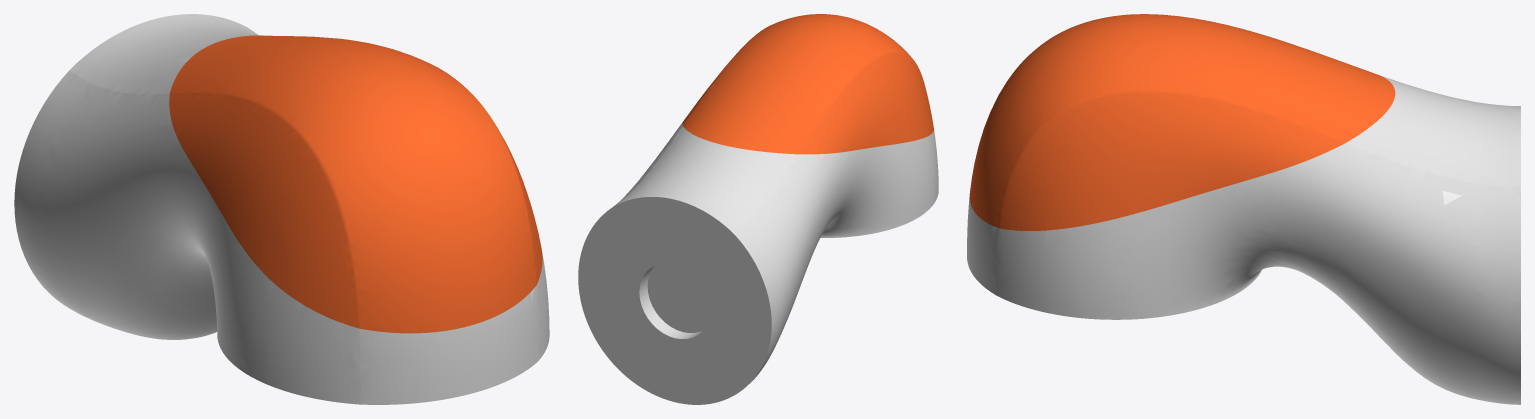
Rendered from v_kuka_link_4.dae.
The picture shows the model from 3 angles, left to right: view 1: azimuth 30°, elevation 25°; view 2: azimuth 150°, elevation 25°; view 3: azimuth 270°, elevation 25°; orthographic projection. The views are drawn at different scales.
Parts seen in each view (by area): view 1: v_link_4; view 2: v_link_4; view 3: v_link_4.
Boxes of the visible parts, <box> form: v_link_4: <box>14,14,549,404</box>; v_link_4: <box>578,14,938,404</box>; v_link_4: <box>967,14,1520,404</box>.
Bounding box in the file's own units: 0.136 × 0.2525 × 0.1826.
Materials: 1 (1 with a texture image).
